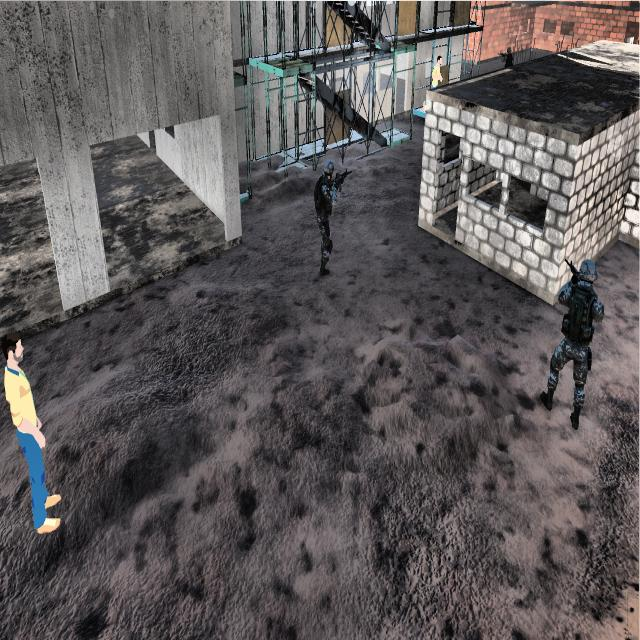bad: (544, 244, 604, 443), (308, 153, 353, 279), (497, 38, 517, 70)
good: (0, 325, 70, 561), (420, 52, 445, 108)
